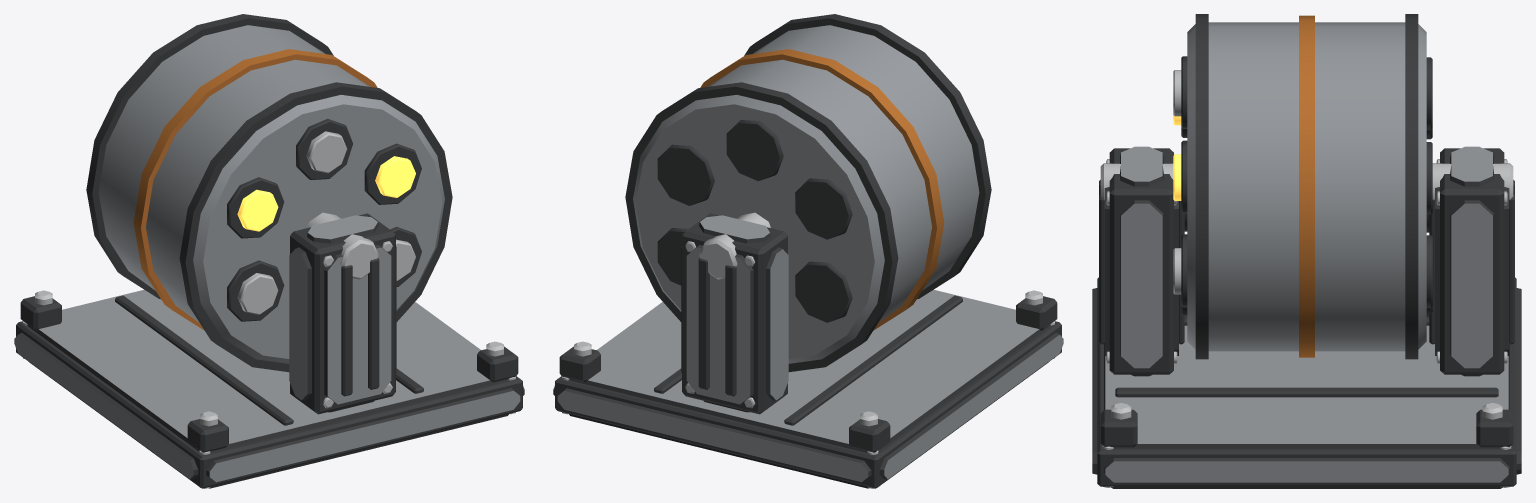
Rendered from R4X_ReloadBooster.fbx.
The picture shows the model from 3 angles, left to right: view 1: azimuth 30°, elevation 25°; view 2: azimuth 150°, elevation 25°; view 3: azimuth 270°, elevation 25°; orthographic projection. The views are drawn at different scales.
Visible parts, largest first — view 1: R4X_ReloadBooster_Drum, R4X_ReloadBooster_Body; view 2: R4X_ReloadBooster_Drum, R4X_ReloadBooster_Body; view 3: R4X_ReloadBooster_Body, R4X_ReloadBooster_Drum.
Part boxes in pixels (bbox=[...]): R4X_ReloadBooster_Drum: bbox=[86, 14, 452, 372]; R4X_ReloadBooster_Body: bbox=[14, 212, 524, 488]; R4X_ReloadBooster_Drum: bbox=[625, 14, 991, 372]; R4X_ReloadBooster_Body: bbox=[553, 212, 1063, 488]; R4X_ReloadBooster_Body: bbox=[1092, 146, 1521, 488]; R4X_ReloadBooster_Drum: bbox=[1173, 14, 1432, 359].
Size of the model in its own units: 0.52 by 0.4968 by 0.52.
